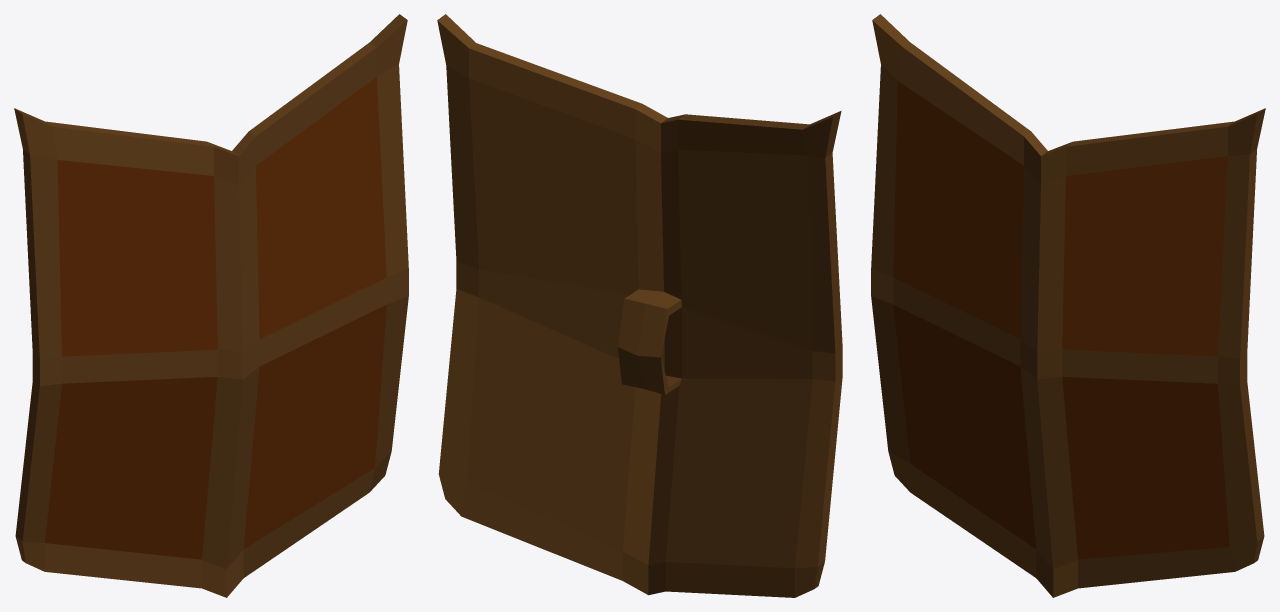
Rendered from BronzeKiteshield.glb.
3 views of the same model, side by side, from view 1: azimuth 30°, elevation 25°; view 2: azimuth 150°, elevation 25°; view 3: azimuth 330°, elevation 25° (orthographic). The views are drawn at different scales.
Visible parts, largest first — view 1: Kiteshield; view 2: Kiteshield; view 3: Kiteshield.
Part boxes in pixels (box(x1,y1,x2,y2)): Kiteshield: box(14, 14, 408, 597); Kiteshield: box(437, 14, 842, 597); Kiteshield: box(871, 14, 1265, 597).
Bounding box in the file's own units: 0.6266 × 0.8115 × 0.12.
